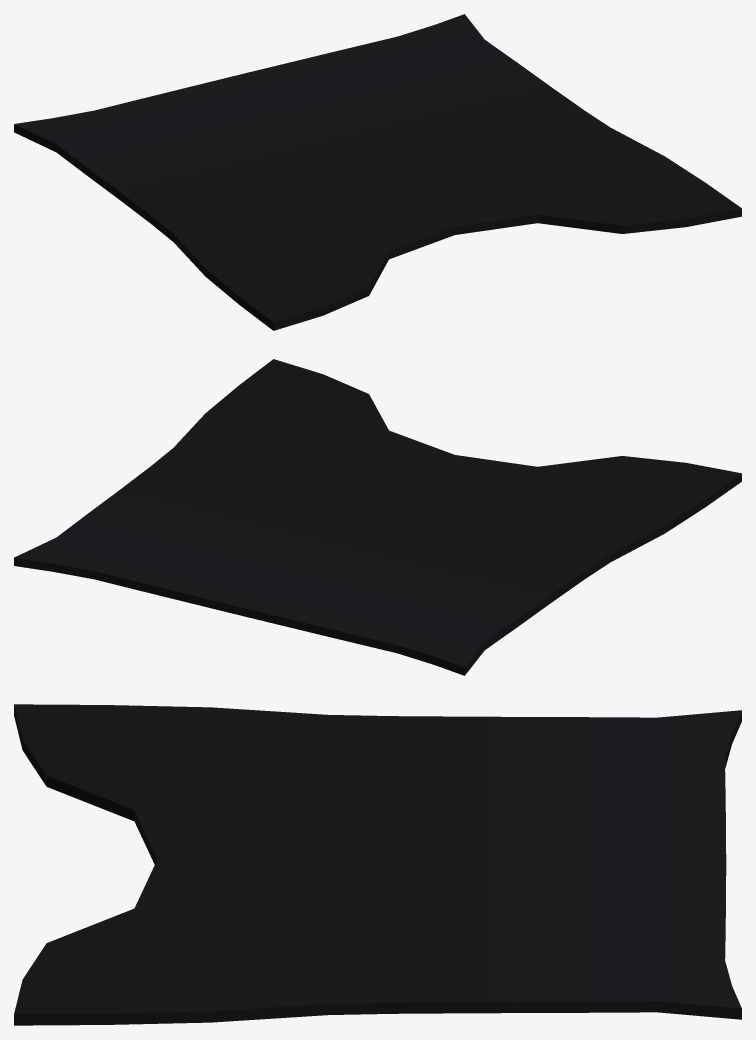
The model's file is camiseta_3.glb.
3 renders of one model, top to bottom at view 1: azimuth 30°, elevation 25°; view 2: azimuth 150°, elevation 25°; view 3: azimuth 270°, elevation 25°, orthographic. The views are drawn at different scales.
Visible parts, largest first — view 1: camiseta_3; view 2: camiseta_3; view 3: camiseta_3.
Part boxes in pixels (x1=…): camiseta_3: x1=14, y1=14, x2=741, y2=330; camiseta_3: x1=14, y1=359, x2=741, y2=675; camiseta_3: x1=14, y1=704, x2=741, y2=1025.
Size of what is drawn, in the model's own units: 0.4457 by 0.00756 by 0.4424.
Materials: 1 (1 with a texture image).
